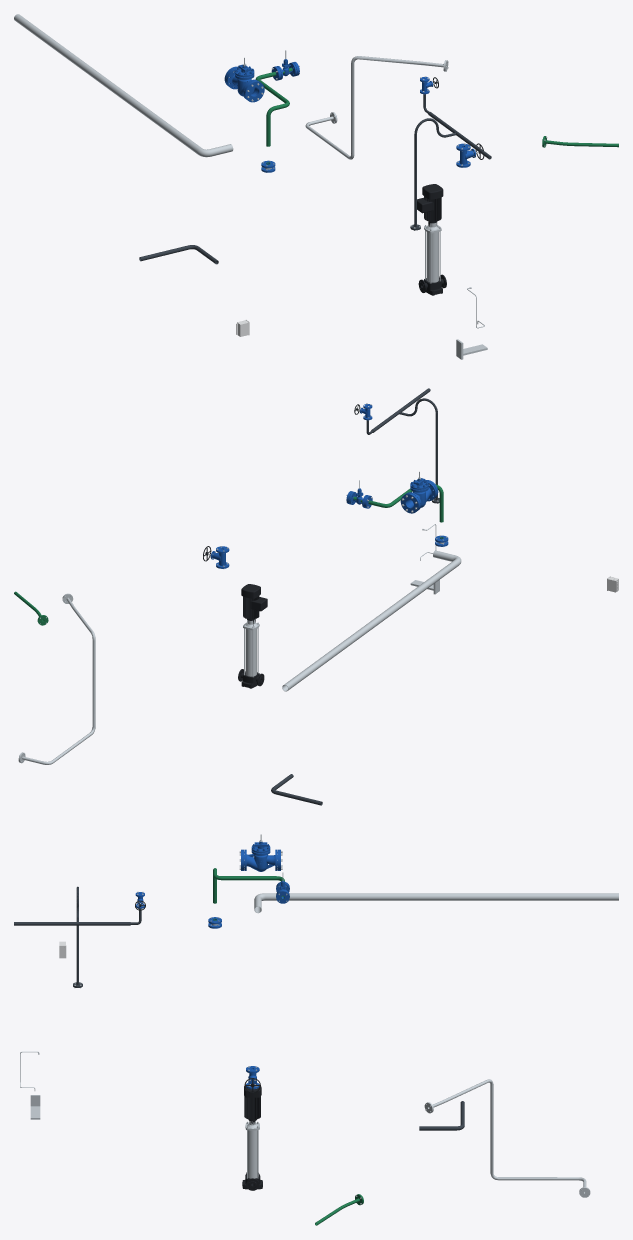
The model's file is s4000-6-CNdC4uA-.glb.
3 renders of one model, top to bottom at view 1: azimuth 30°, elevation 25°; view 2: azimuth 150°, elevation 25°; view 3: azimuth 270°, elevation 25°, orthographic. The views are drawn at different scales.
Parts seen in each view (by area): view 1: safety_vent_2 / steel, trap_gap_to_bdv / steel, pressure_header / dark, pump_2 CAD solid 15, gpz CAD solid 0, pump_2 CAD solid 2, direct_inlet / green; view 2: safety_vent_2 / steel, trap_gap_to_bdv / steel, pressure_header / dark, pump_2 CAD solid 15, gpz CAD solid 0; view 3: safety_vent_2 / steel, trap_gap_to_bdv / steel, pressure_header / dark, gpz CAD solid 0, pump_2 CAD solid 15, pump_2 CAD solid 2.
Boxes of the visible parts, box(x1,y1,x2,y2) form: safety_vent_2 / steel: box(14, 14, 233, 157); trap_gap_to_bdv / steel: box(305, 56, 448, 159); pressure_header / dark: box(410, 94, 491, 230); pump_2 CAD solid 15: box(417, 184, 443, 222); gpz CAD solid 0: box(226, 57, 258, 98); pump_2 CAD solid 2: box(426, 232, 438, 282); direct_inlet / green: box(255, 72, 289, 146); safety_vent_2 / steel: box(282, 550, 461, 691); trap_gap_to_bdv / steel: box(18, 593, 95, 764); pressure_header / dark: box(366, 388, 439, 503); pump_2 CAD solid 15: box(241, 584, 267, 619); gpz CAD solid 0: box(406, 471, 436, 509); safety_vent_2 / steel: box(254, 893, 618, 913); trap_gap_to_bdv / steel: box(424, 1079, 590, 1197); pressure_header / dark: box(14, 886, 141, 987); gpz CAD solid 0: box(244, 834, 277, 871); pump_2 CAD solid 15: box(244, 1084, 261, 1120); pump_2 CAD solid 2: box(248, 1130, 258, 1178).
Size of the model in its own units: 5.86 by 3.05 by 6.19.
